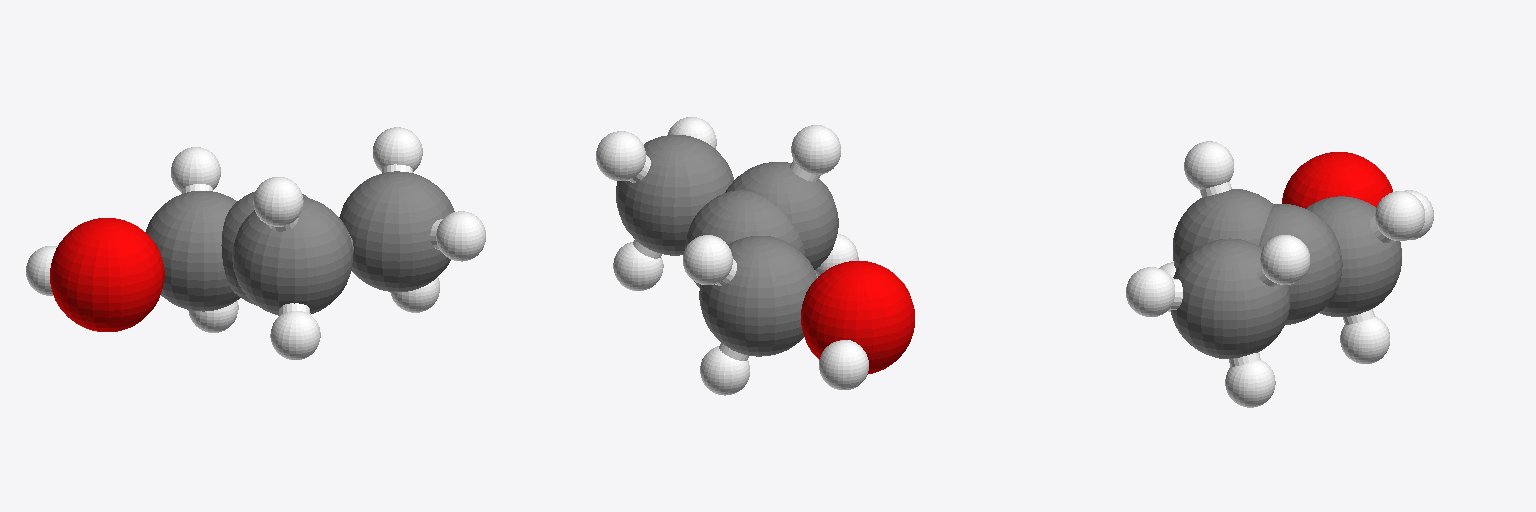
Rendered from ethanol3D.obj.
3 views of the same model, side by side, from view 1: azimuth 30°, elevation 25°; view 2: azimuth 150°, elevation 25°; view 3: azimuth 270°, elevation 25° (orthographic).
Parts seen in each view (by area): view 1: Carbon_ball_SurfSphere.004, Hydrogen_ball_SurfSphere.005, Oxygen_ball_SurfSphere.003, Carbon_ball.001_SurfSphere.001, Hydrogen_sticks_cylinder.001; view 2: Carbon_ball_SurfSphere.004, Hydrogen_ball_SurfSphere.005, Oxygen_ball_SurfSphere.003, Carbon_ball.001_SurfSphere.001, Hydrogen_sticks_cylinder.001; view 3: Carbon_ball_SurfSphere.004, Hydrogen_ball_SurfSphere.005, Carbon_ball.001_SurfSphere.001, Oxygen_ball_SurfSphere.003, Hydrogen_sticks_cylinder.001.
Boxes of the visible parts, x1=… form: Carbon_ball_SurfSphere.004: x1=146, y1=171, x2=454, y2=315; Hydrogen_ball_SurfSphere.005: x1=26, y1=127, x2=485, y2=359; Oxygen_ball_SurfSphere.003: x1=50, y1=218, x2=164, y2=331; Carbon_ball.001_SurfSphere.001: x1=221, y1=191, x2=309, y2=305; Hydrogen_sticks_cylinder.001: x1=182, y1=164, x2=442, y2=315; Carbon_ball_SurfSphere.004: x1=616, y1=135, x2=838, y2=356; Hydrogen_ball_SurfSphere.005: x1=596, y1=117, x2=868, y2=395; Oxygen_ball_SurfSphere.003: x1=801, y1=261, x2=914, y2=374; Carbon_ball.001_SurfSphere.001: x1=685, y1=190, x2=804, y2=287; Hydrogen_sticks_cylinder.001: x1=628, y1=155, x2=859, y2=360; Carbon_ball_SurfSphere.004: x1=1171, y1=189, x2=1401, y2=358; Hydrogen_ball_SurfSphere.005: x1=1126, y1=141, x2=1433, y2=407; Carbon_ball.001_SurfSphere.001: x1=1259, y1=204, x2=1342, y2=324; Oxygen_ball_SurfSphere.003: x1=1282, y1=152, x2=1392, y2=208; Hydrogen_sticks_cylinder.001: x1=1169, y1=181, x2=1392, y2=366.
Size of the model in its own units: 4.96 by 2.97 by 3.92.